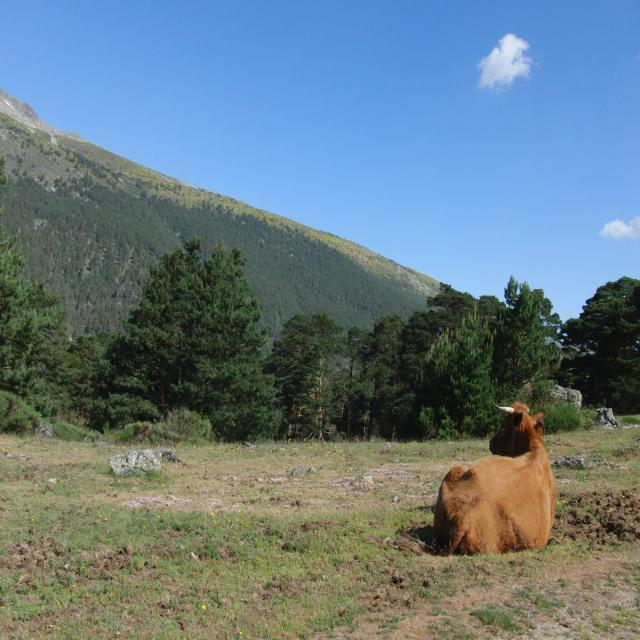cow: (432, 402, 556, 553)
